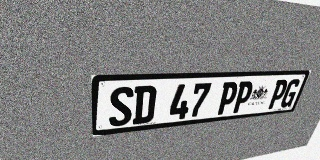4: (168, 84, 193, 120)
7: (187, 83, 212, 118)
D: (132, 85, 157, 125)
G: (279, 79, 302, 108)
P: (215, 82, 240, 115), (231, 81, 255, 113), (266, 79, 290, 109)
S: (109, 86, 134, 127)
